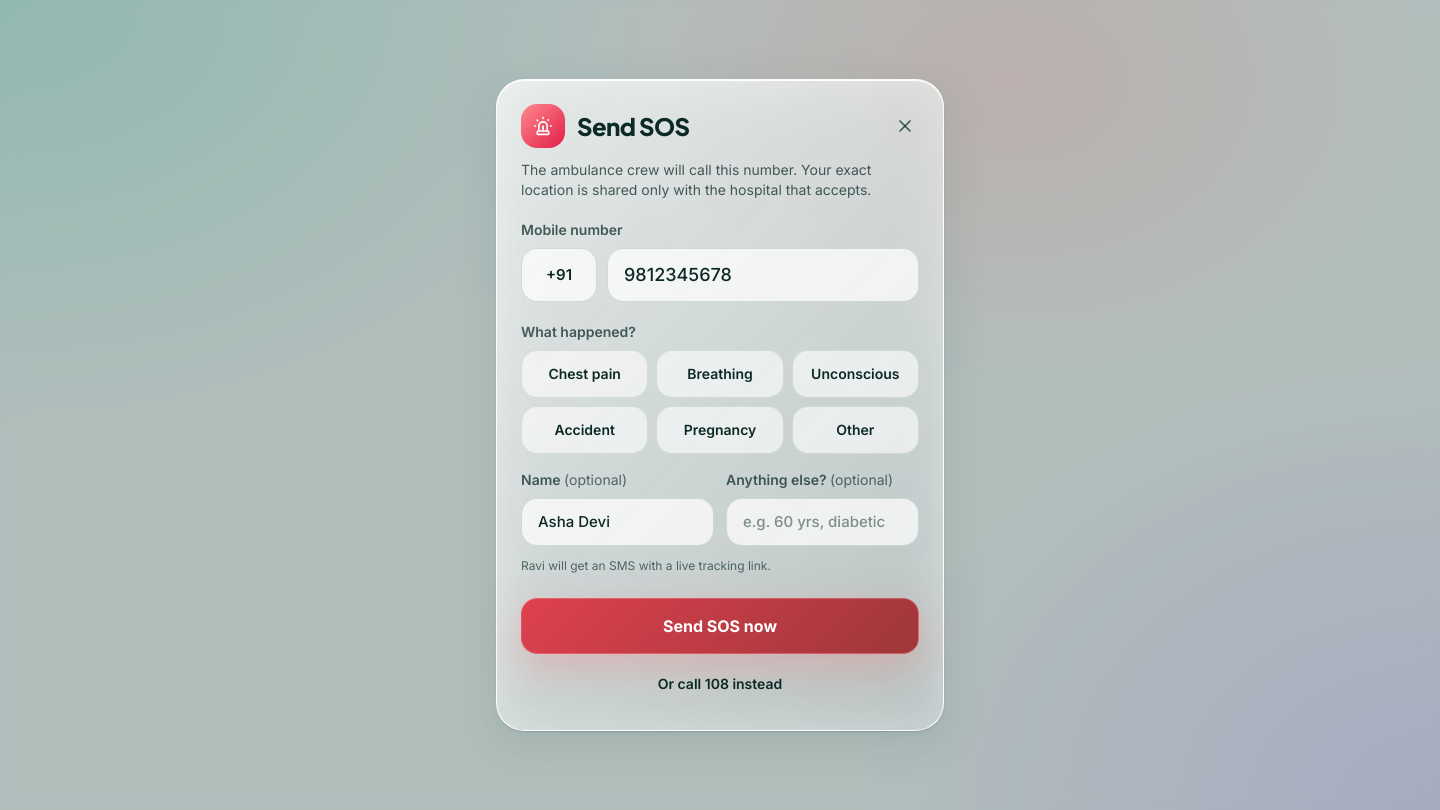
Test case: SOS sheet quick buttons › offers the six quick buttons, one selectable at a time
Step 1. Click the button "Chest pain" → [585, 374], box [521,350,648,398]
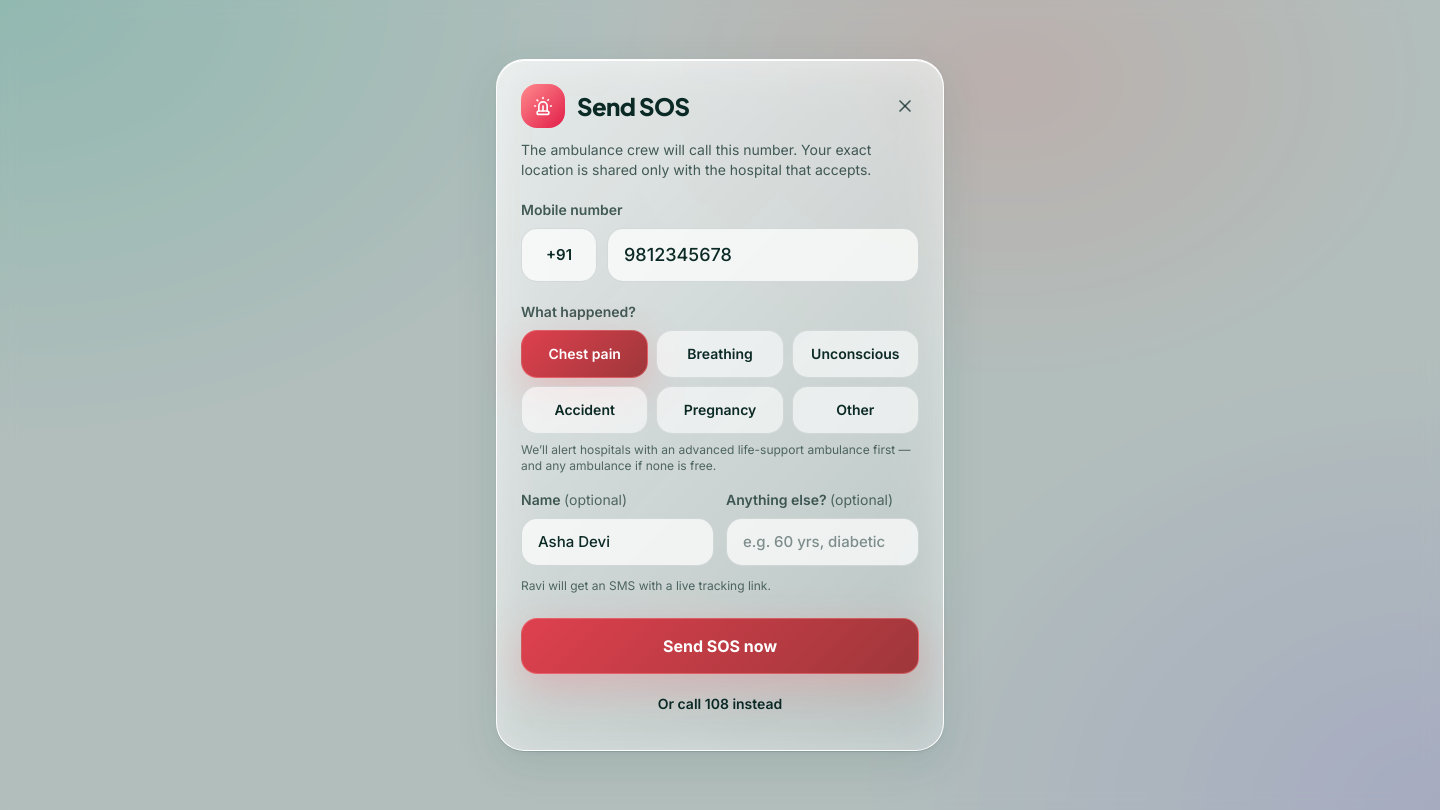
Expected: the button "Chest pain" is pressed, [521,330,648,378]
Step 2. Click the button "Breathing" → [720, 354], box [656,330,784,378]
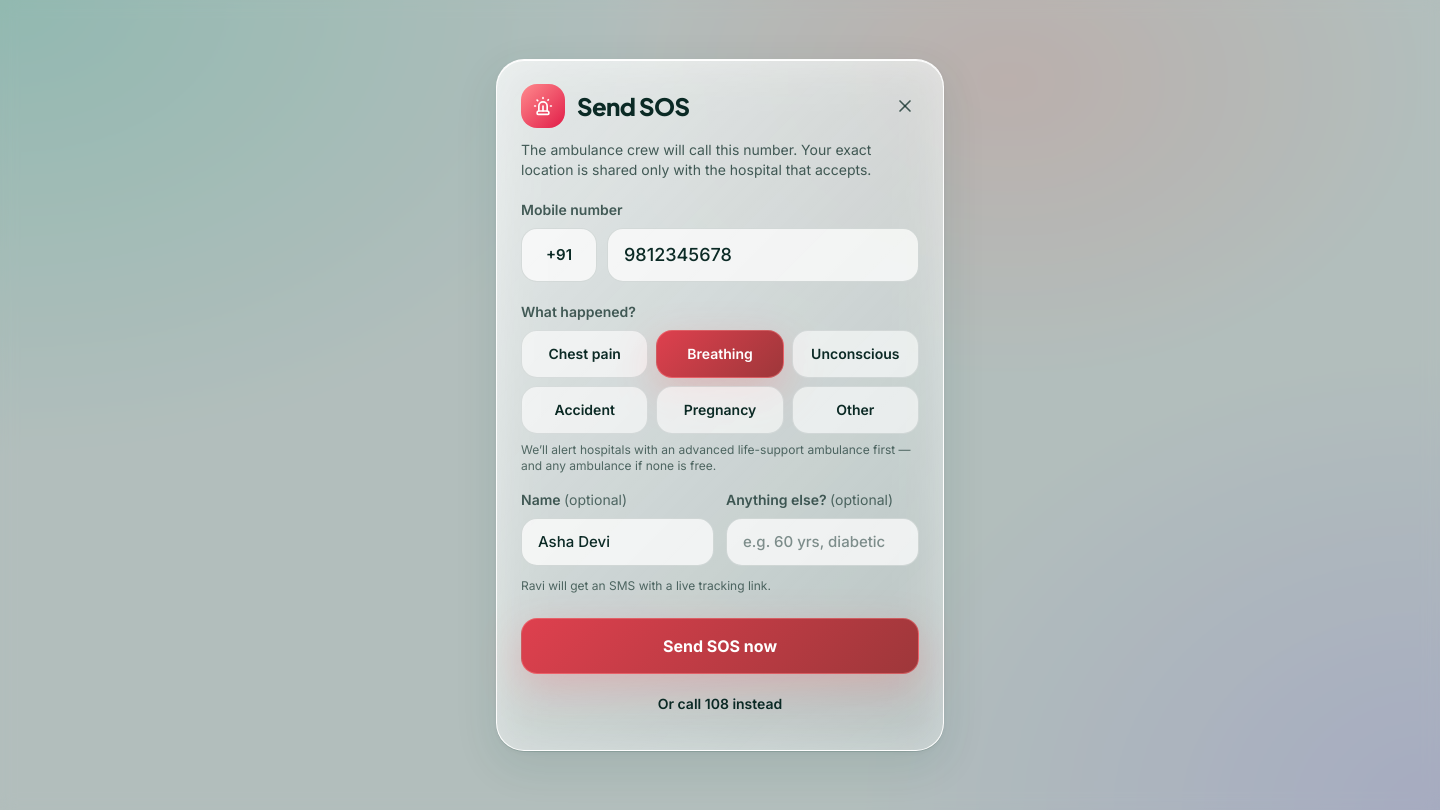
Expected: the button "Chest pain" is not pressed, [521,330,648,378]
Expected: the button "Breathing" is pressed, [656,330,784,378]
